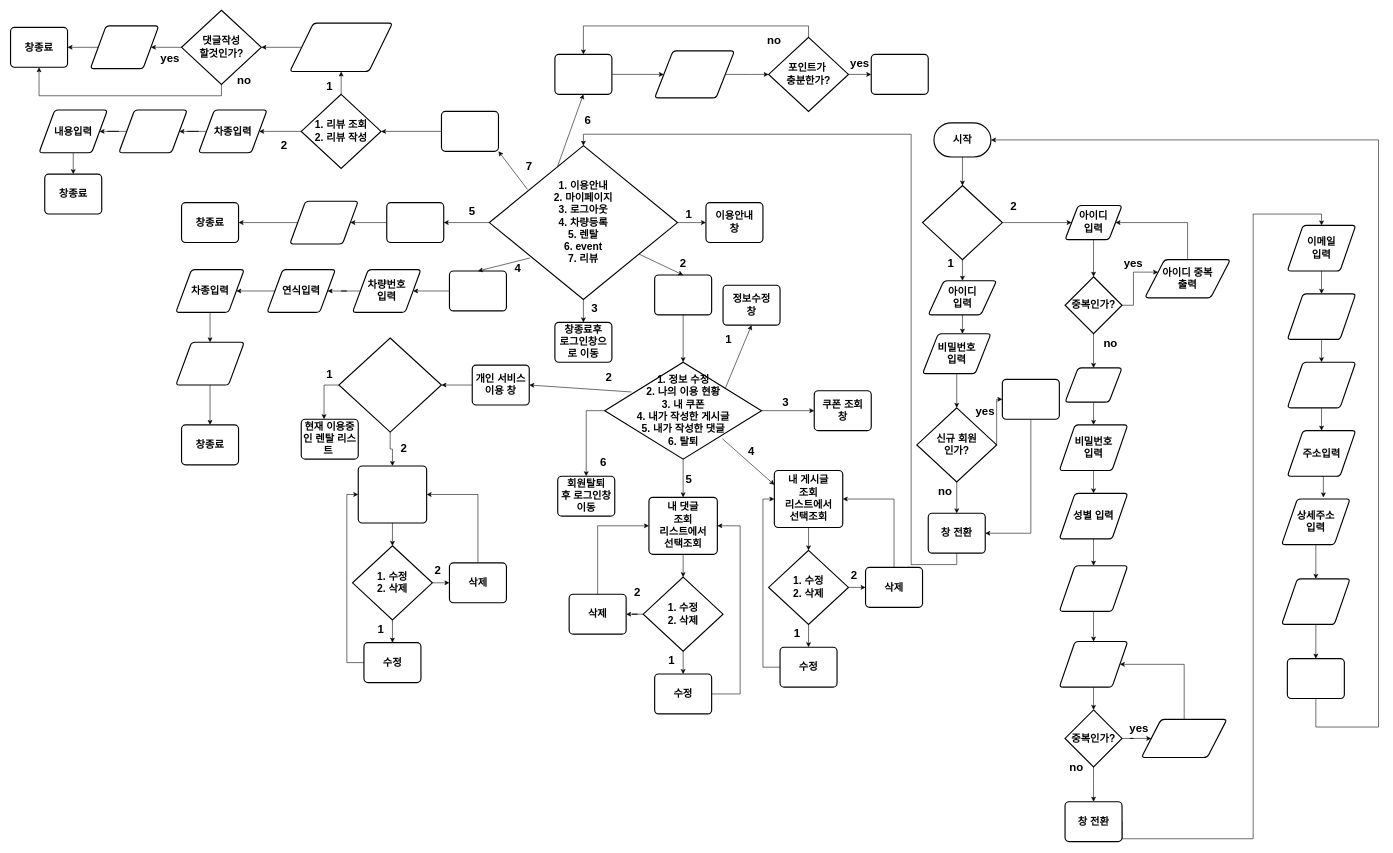
Image size: 1393x853. Some labels were removed from this diagram. Here are the shapes that lost their labels. From the top down, the centre of each, then its label:
point (124, 47): 댓글 입력
point (341, 47): 조회하려는 리뷰 리스트에서 선택
point (583, 74): event 창 이벤트 리스트
point (694, 74): 응모하려는 이벤트 선택
point (899, 74): 응모완료후 창 종료
point (153, 131): 제목입력
point (470, 131): 리뷰창 리뷰리스트 리뷰작성
point (324, 222): 차량 선택 후 결제
point (415, 222): 렌탈 창 렌탈가능한 차량리스트
point (962, 222): 1. 로그인 2. 회원가입
point (478, 290): 차량등록 창
point (683, 294): 마이 페이지
point (1321, 316): 전화번호 입력
point (210, 363): 등록기간 입력
point (390, 384): 1. 이용중인 렌탈 2. 등록중인 차량
point (1030, 399): 환영 배너
point (1093, 384): 이름 입력
point (1321, 384): 운전면허증 번호 입력
point (392, 494): 내 차량 리스트에서 선택 조회
point (1093, 588): 나이 입력
point (1315, 601): 계좌 입력
point (1093, 664): 닉네임 입력
point (1315, 678): 창 exit
point (1184, 738): 닉네임 중복 출력
